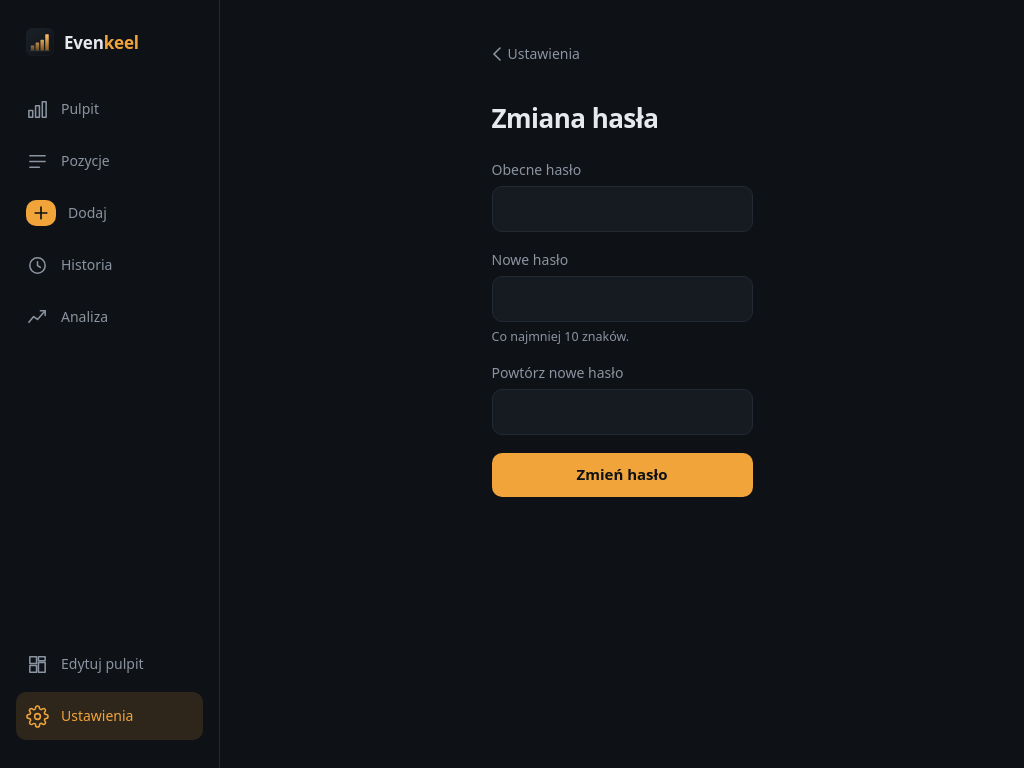
Test case: password change › shows a wrong current password at its field and keeps what was typed
Type "zle-haslo-123" into the password field labelled "Obecne hasło" at {"x": 622, "y": 209}, box [492,186,752,232]
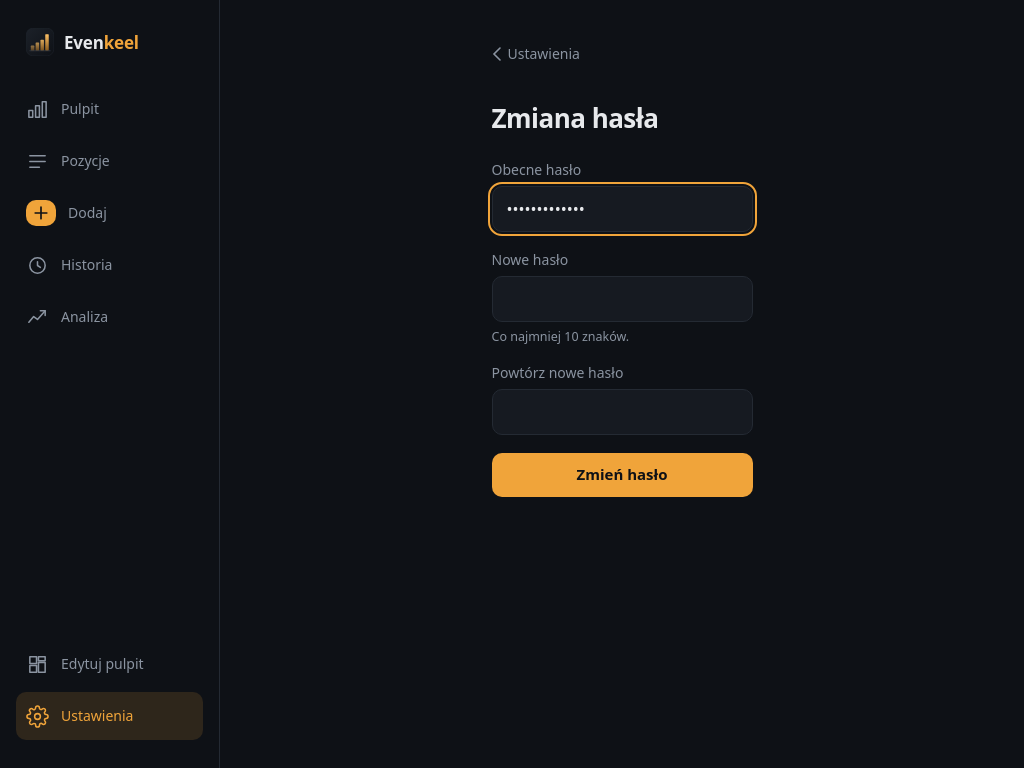
Type "jeszcze-bardziej-tajne" into the password field labelled "Nowe hasło" at {"x": 622, "y": 299}, box [492,276,752,322]
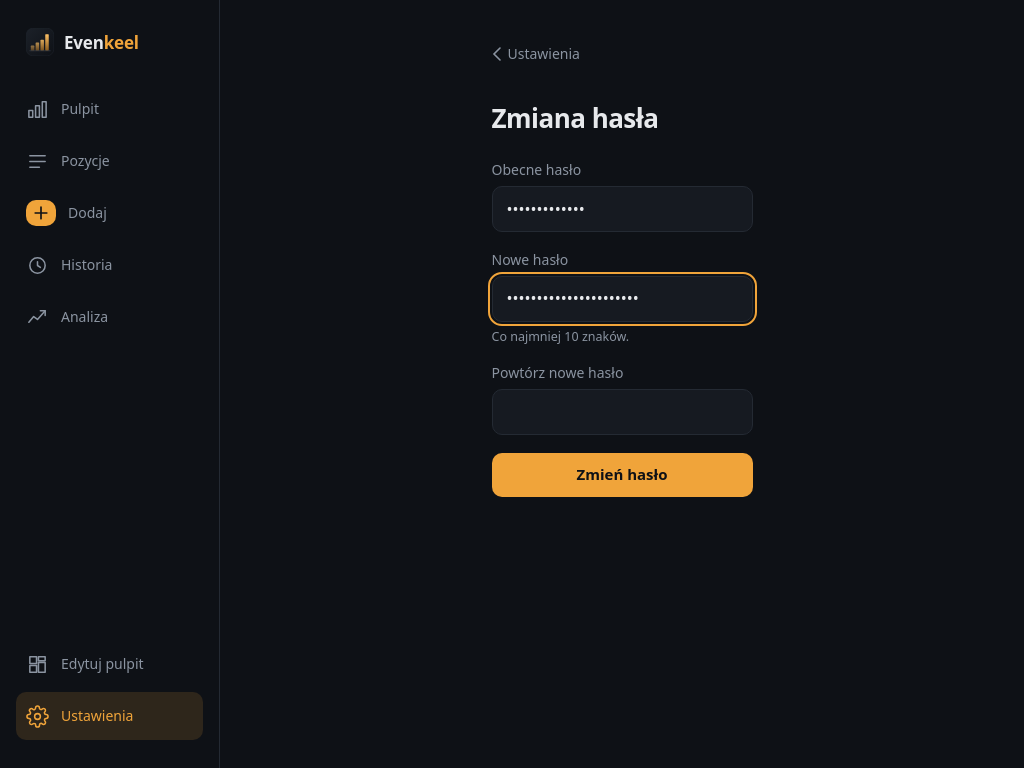
Type "jeszcze-bardziej-tajne" into the password field labelled "Powtórz nowe hasło" at {"x": 622, "y": 412}, box [492,389,752,435]
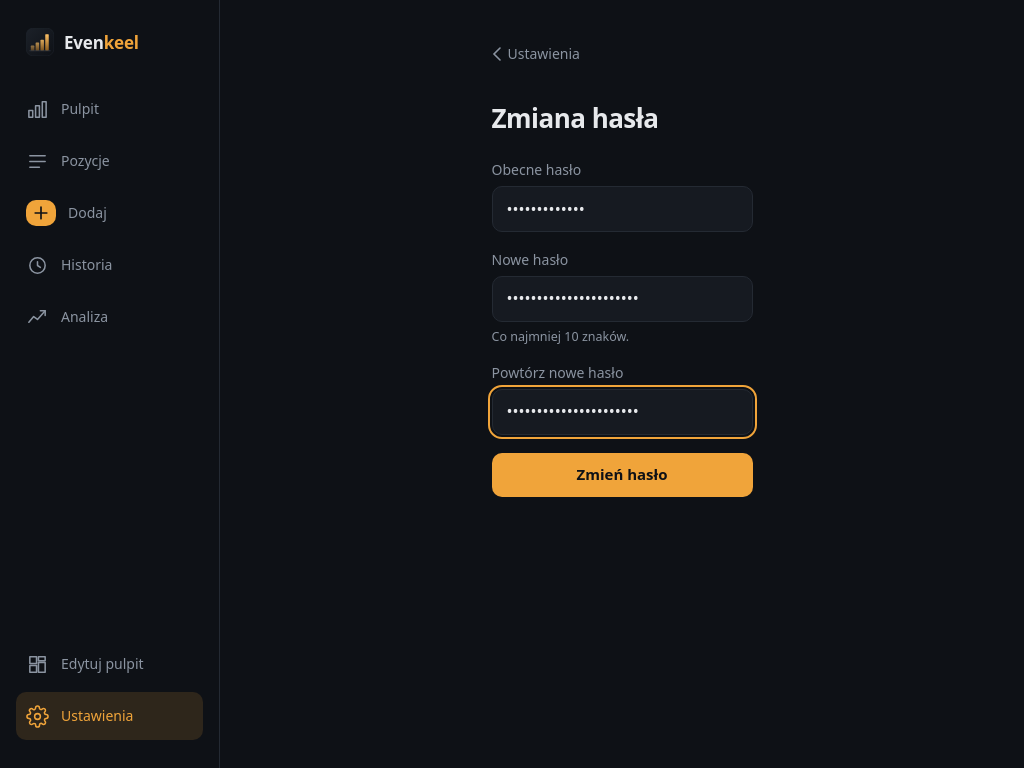
Click the button "Zmień hasło" at {"x": 622, "y": 475}, box [492,453,752,497]
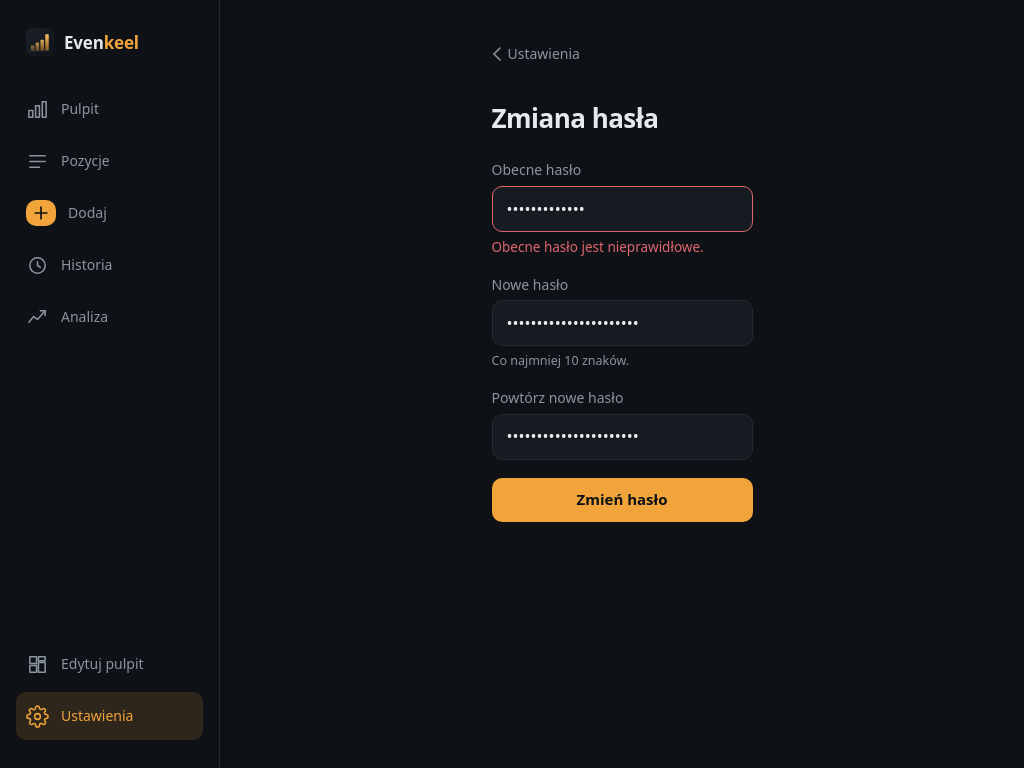
Check: the text "Obecne hasło jest nieprawidłowe." is shown, box [492,238,704,256]
